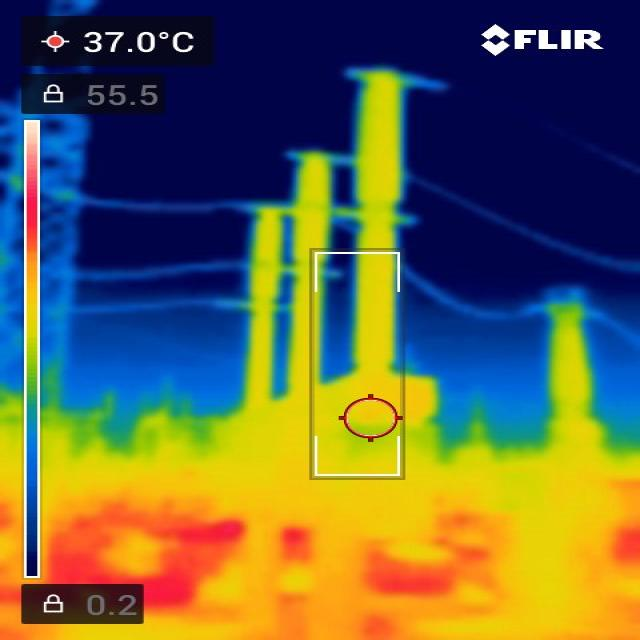Zona_Critica: (371, 516, 507, 611), (150, 530, 245, 608)
